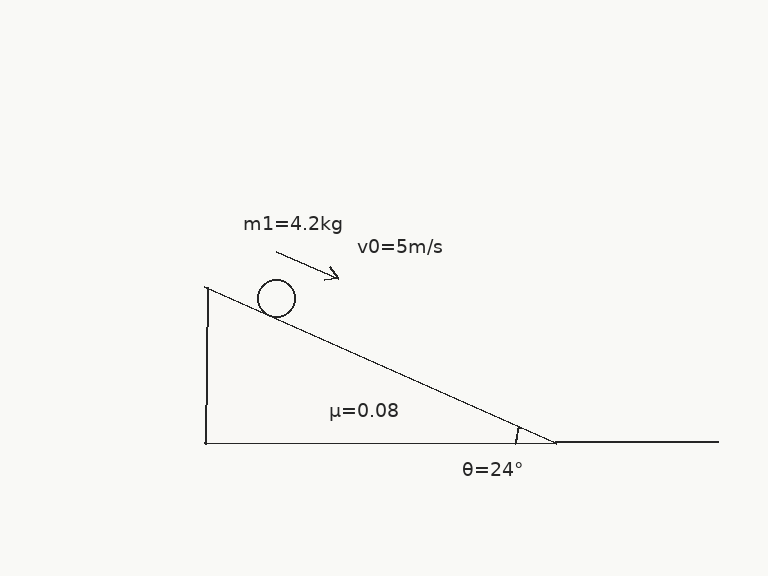ball: (255, 277, 297, 319)
ramp: (203, 285, 558, 445)
